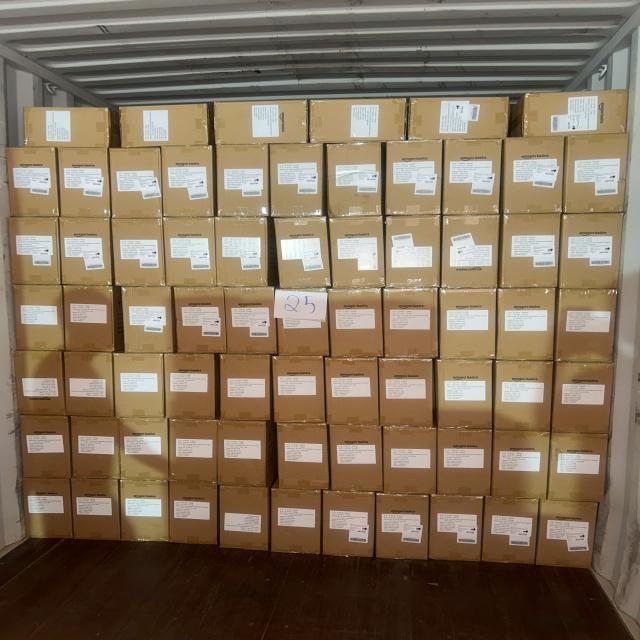Carton: (562, 135, 626, 215), (560, 212, 624, 290), (504, 137, 566, 217), (522, 91, 626, 137), (445, 140, 504, 218), (550, 359, 612, 433), (500, 213, 560, 289), (441, 212, 501, 288), (557, 287, 617, 361), (326, 143, 383, 220), (211, 101, 306, 147), (412, 98, 511, 142), (386, 141, 443, 217), (494, 358, 553, 431), (310, 99, 405, 144), (269, 144, 325, 220), (497, 290, 555, 363), (547, 433, 607, 503), (536, 502, 596, 572), (440, 290, 497, 363), (382, 213, 438, 287), (492, 431, 549, 503), (385, 288, 441, 361), (328, 214, 384, 287), (435, 361, 491, 433), (215, 145, 269, 219), (275, 216, 329, 289), (165, 146, 218, 220), (123, 104, 212, 148), (380, 424, 435, 495), (274, 288, 329, 359), (329, 289, 383, 360), (380, 356, 434, 427), (112, 146, 165, 218), (215, 216, 268, 288), (60, 218, 113, 290), (64, 282, 118, 352), (436, 430, 490, 500), (113, 215, 166, 286), (60, 148, 112, 220), (24, 106, 111, 149), (176, 287, 228, 358), (6, 146, 58, 217), (482, 499, 536, 567), (272, 357, 326, 425), (167, 216, 218, 288), (217, 354, 269, 424), (429, 496, 481, 566), (226, 289, 278, 359), (7, 216, 59, 286), (328, 360, 381, 428), (275, 425, 328, 493), (331, 427, 384, 495), (166, 354, 218, 423), (123, 284, 175, 353), (216, 422, 268, 490), (323, 491, 375, 559), (14, 348, 66, 416), (374, 492, 426, 560), (115, 353, 166, 422), (12, 282, 63, 350), (21, 412, 73, 478), (64, 349, 114, 417), (217, 489, 268, 554), (170, 483, 220, 549), (119, 418, 169, 483), (272, 488, 322, 552), (24, 475, 74, 539), (69, 414, 118, 479), (119, 479, 169, 542), (73, 477, 122, 541), (171, 421, 219, 486)
